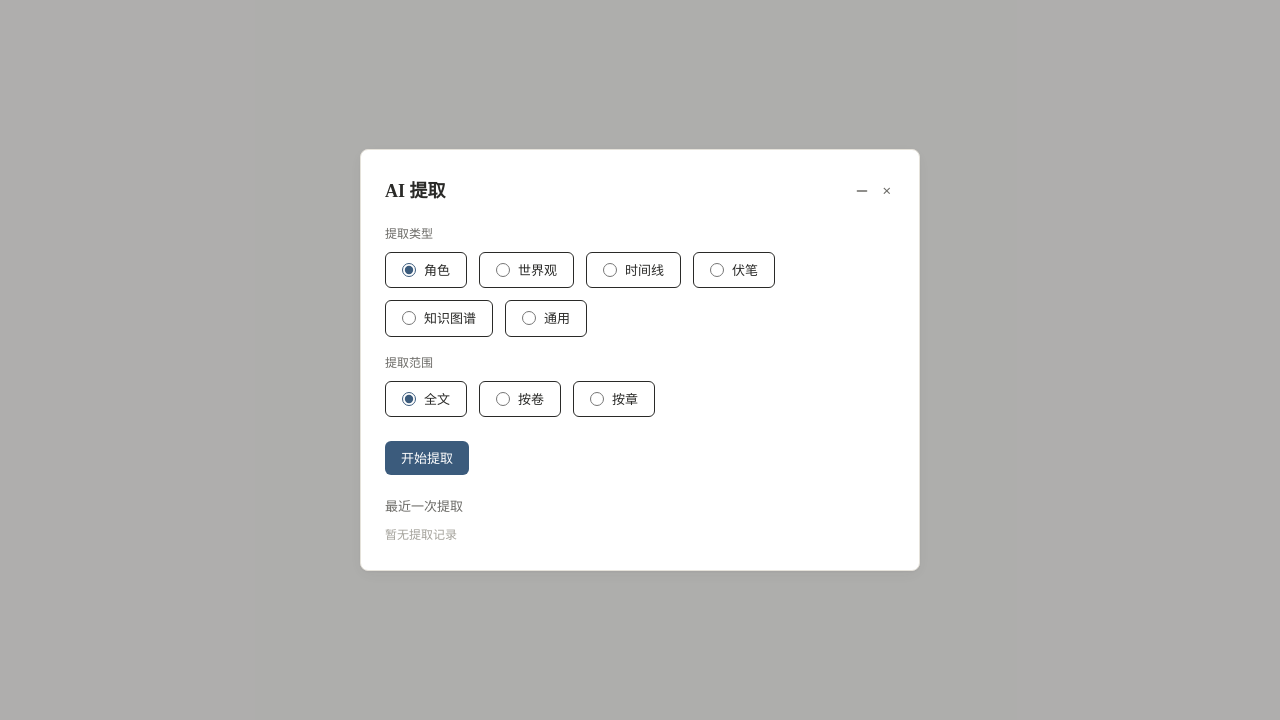
Test case: 「AI 提取」浮窗生命周期（#1582） › 契约7b（进行中最小化）：浮窗文案为「提取中」，不谎报待确认
This screenshot has width=1280, height=720.
Click the button with test id "ai-extract-min" at (862, 191), box 850,179 -> 874,203
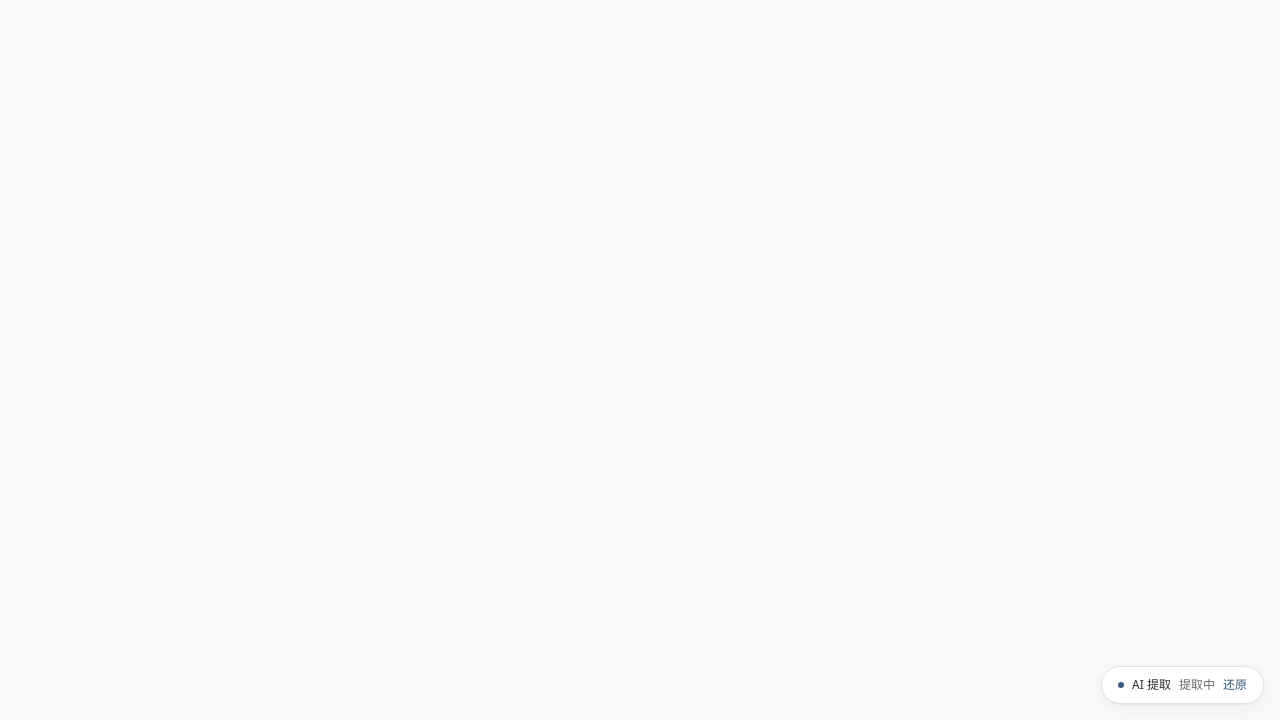
expect the button with test id "ai-extract-float" does not show "待确认": met, box 1101,666 -> 1264,704
expect the button with test id "ai-extract-float" shows "提取中": met, box 1101,666 -> 1264,704
